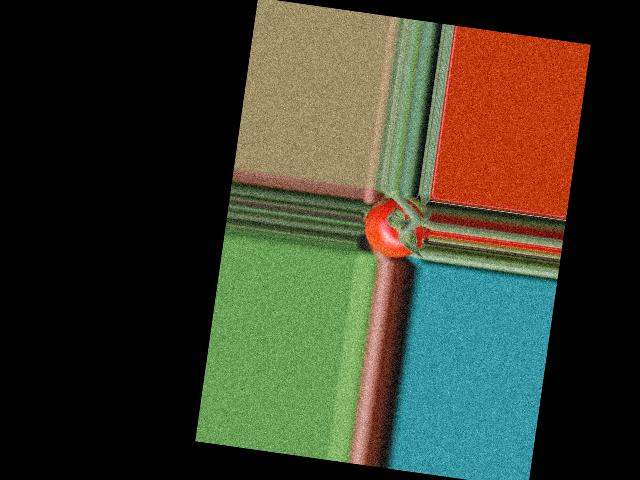tomato: (361, 193, 433, 262)
